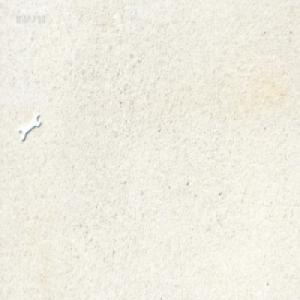Wrench: (23, 108, 46, 140)
